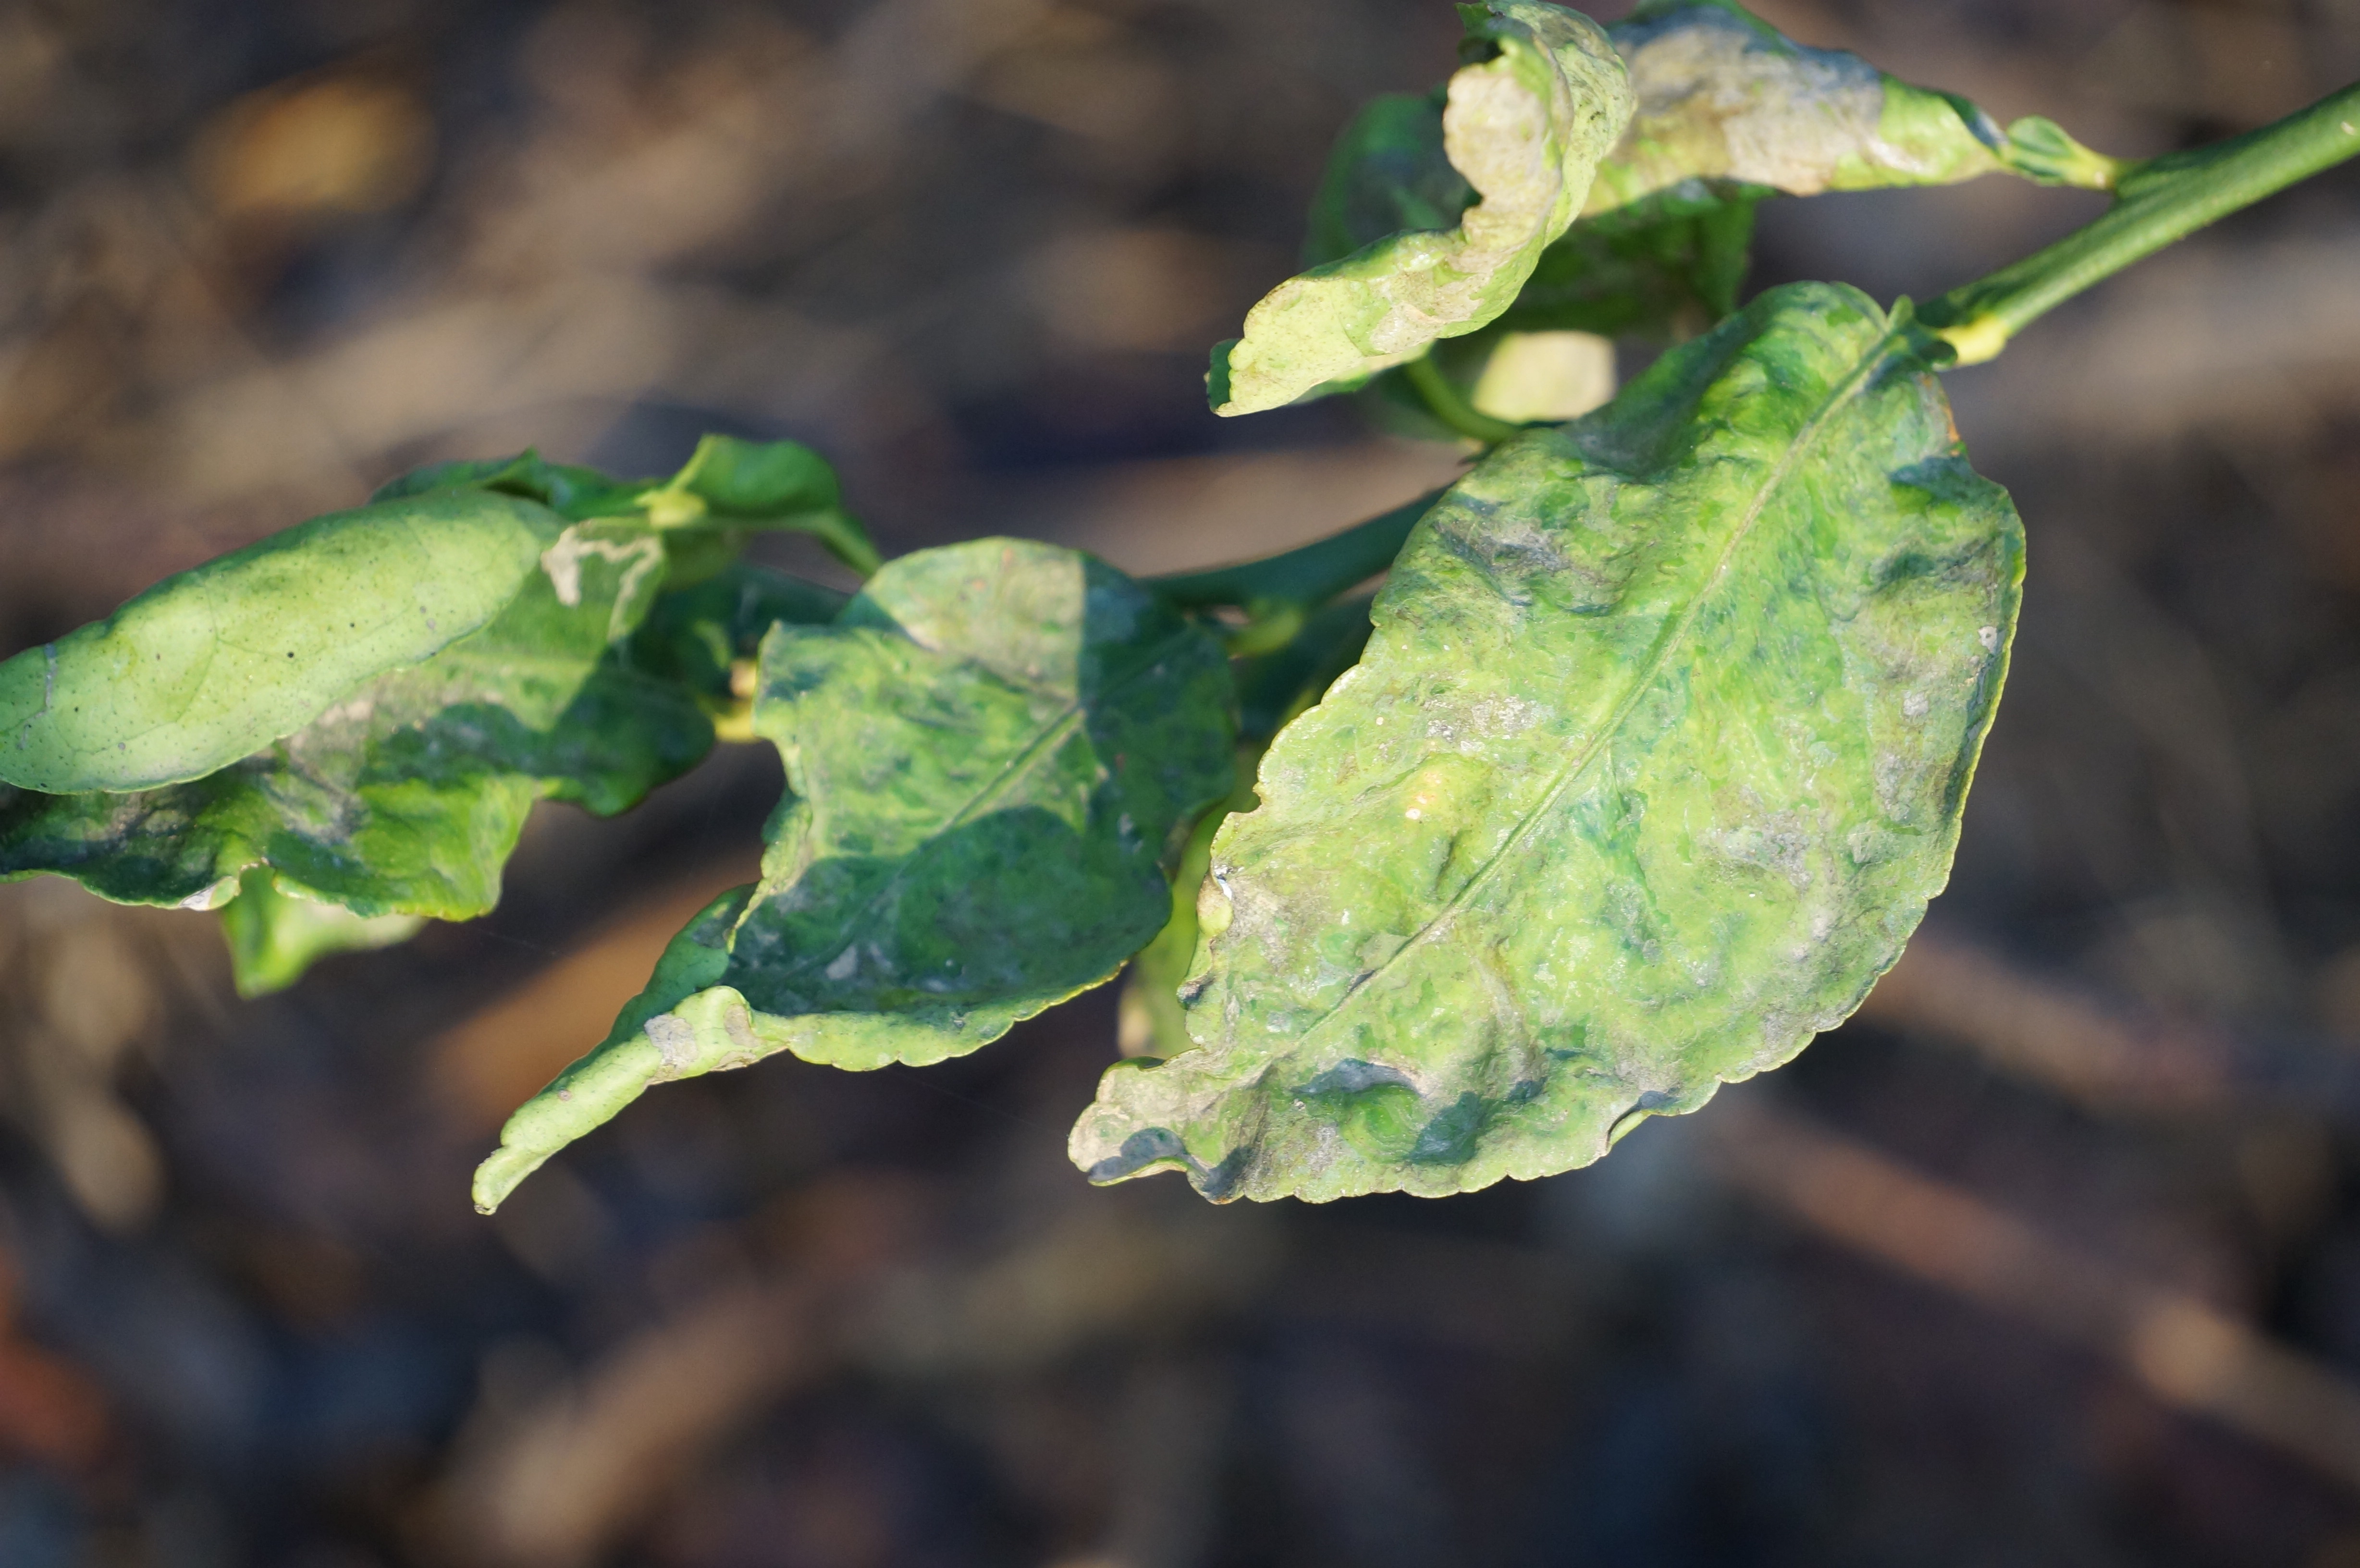curly: (1037, 271, 2084, 1220), (0, 362, 864, 1048)
